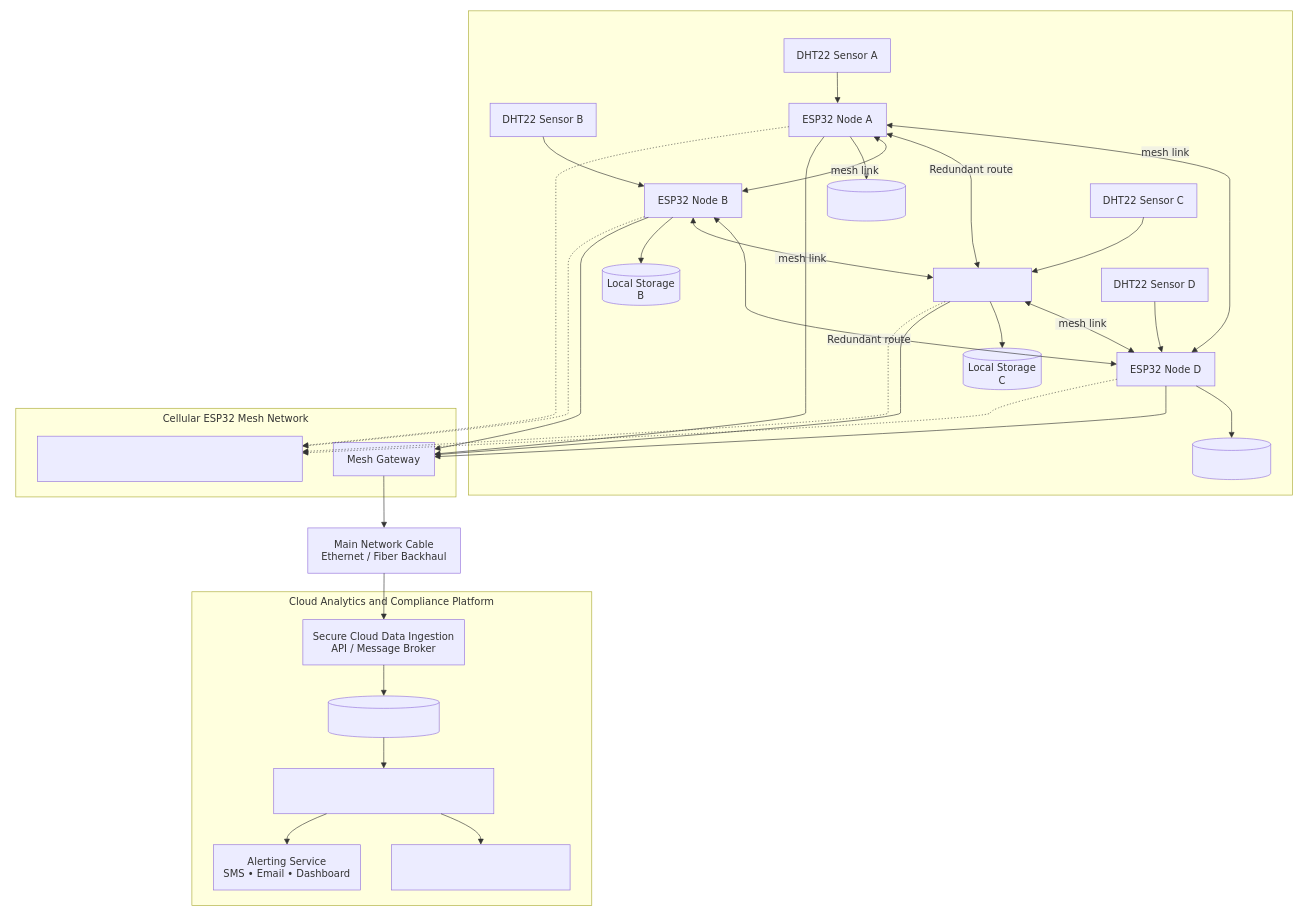
Image size: 1303x916. Some labels were removed from this diagram. The shapes that lost their labels are listed below. From the top down, each one's box as (x1, y1, x2, y2) in pixels, then its label:
(827, 179, 906, 221): Local Storage A
(468, 10, 1292, 495): Pharmaceutical Cold-Chain Units
(933, 268, 1031, 302): ESP32 Node C
(37, 436, 302, 481): Custom Secure Mesh Protocol Ordered delivery • ACKs • Sequencing • Encryption
(1192, 437, 1271, 480): Local Storage D
(328, 695, 439, 737): Time-Series Data Store
(273, 768, 494, 814): Cloud Analytics Trends • Thresholds • Anomaly Detection
(391, 844, 570, 890): Compliance Reporting Audit Trail • Exportable Reports
